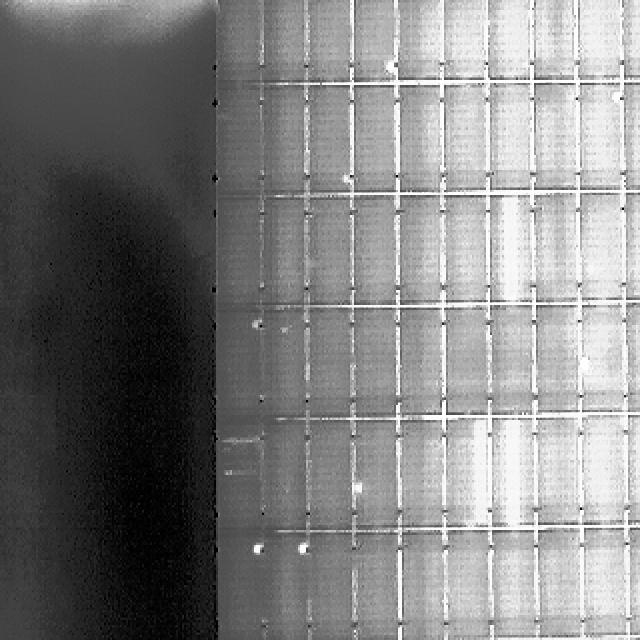Hotspots: (237, 530, 274, 570), (291, 538, 312, 564), (607, 90, 627, 110), (384, 56, 396, 80), (248, 316, 262, 335), (340, 169, 353, 188), (355, 479, 367, 498), (579, 354, 590, 374), (277, 325, 289, 338), (248, 0, 266, 8)
PV-modules: (214, 306, 267, 428), (260, 524, 310, 640), (306, 307, 356, 420), (306, 307, 356, 420), (308, 422, 358, 535), (260, 421, 310, 534), (309, 195, 358, 310), (215, 80, 262, 198), (216, 421, 264, 535), (306, 86, 355, 197), (306, 86, 355, 197), (487, 531, 537, 639), (446, 306, 494, 418), (443, 85, 491, 196), (443, 85, 491, 196), (444, 196, 492, 307), (486, 304, 533, 417), (352, 195, 398, 310), (216, 528, 264, 638), (400, 418, 447, 530), (582, 302, 629, 414), (536, 527, 583, 639), (351, 307, 398, 419), (307, 528, 354, 640), (215, 200, 261, 314), (448, 531, 496, 640), (262, 81, 307, 197), (485, 83, 532, 194), (446, 417, 492, 530), (583, 415, 629, 528), (351, 86, 398, 196), (534, 194, 580, 306), (534, 418, 580, 530), (487, 420, 533, 532), (532, 85, 580, 192), (585, 524, 630, 638), (534, 305, 580, 415), (534, 305, 580, 415), (352, 423, 398, 533), (581, 195, 627, 305), (576, 86, 623, 192), (402, 530, 448, 638), (262, 306, 306, 418), (352, 532, 398, 639), (401, 196, 444, 307), (264, 200, 307, 311), (401, 308, 444, 418), (400, 82, 442, 194), (488, 195, 530, 306), (306, 0, 356, 88), (394, 0, 442, 85), (394, 0, 442, 85), (530, 0, 578, 82), (530, 0, 578, 82), (442, 0, 490, 82), (214, 0, 260, 85), (484, 0, 530, 82), (352, 0, 396, 85), (580, 0, 624, 85), (260, 0, 304, 82), (622, 82, 640, 190), (624, 522, 640, 638), (624, 300, 640, 412), (624, 415, 640, 525), (624, 195, 640, 303), (622, 0, 640, 82)
